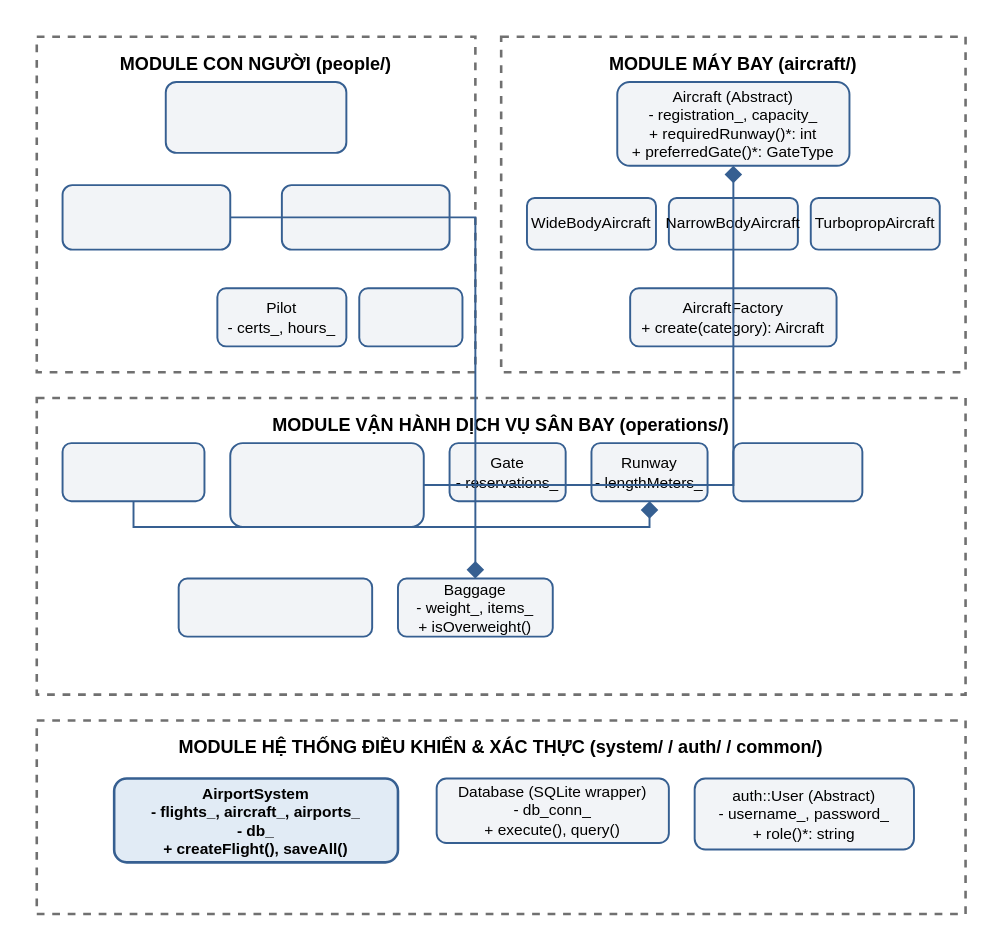
Some shapes in this 989 by 938 pixel diagram are drawn without their labels. Here are the shapes that lost their labels. From the top down, the centre of each, then its label:
the point at 255,116: Person (Abstract) - id_, fullName_, age_ + role()*: string
the point at 146,217: Passenger - passport_ + checkIn(), board()
the point at 365,217: Staff (Abstract) - baseAirport_ + salary(): float
the point at 410,317: GroundStaff - department_
the point at 133,472: Airport - gates_, runways_
the point at 326,484: Flight (State Machine) - code_, status_ - passengers_ + advance()
the point at 797,472: Crew - pilots_, ground_
the point at 275,607: Ticket - ticket_id_, seat_class_ + calculatePrice()
